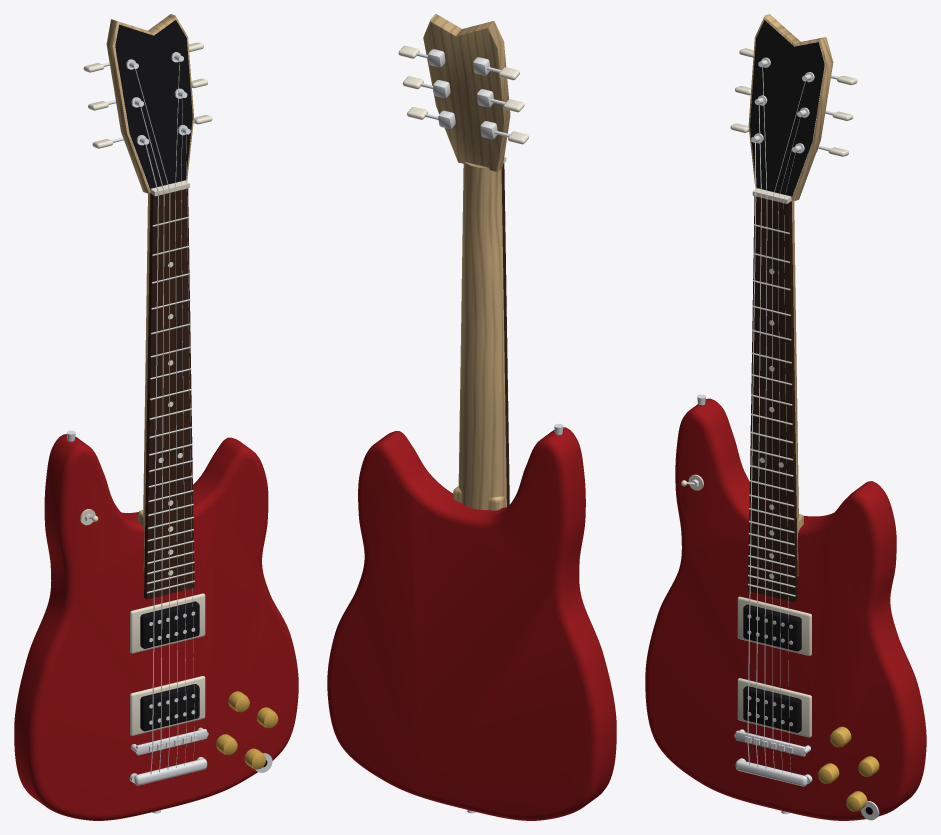
Rendered from electric-guitar.glb.
3 renders of one model, left to right at view 1: azimuth 30°, elevation 25°; view 2: azimuth 150°, elevation 25°; view 3: azimuth 330°, elevation 25°, orthographic. The views are drawn at different scales.
Parts seen in each view (by area): view 1: Electric_Guitar; view 2: Electric_Guitar; view 3: Electric_Guitar.
Part boxes in pixels (x1,y1,x2,y2): Electric_Guitar: (14,14,298,820); Electric_Guitar: (327,14,616,820); Electric_Guitar: (645,14,926,820).
Size of the model in its own units: 0.3322 by 0.9313 by 0.0821.
14 materials, 2 textured.
